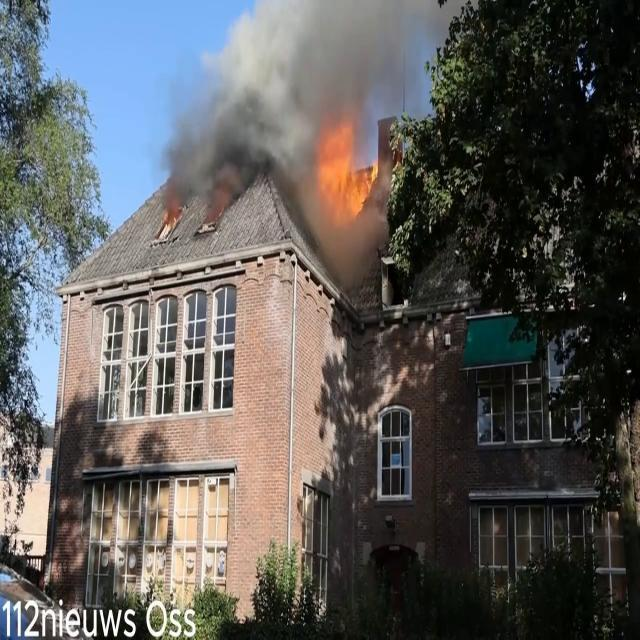Fire: (312, 118, 380, 224)
Smoke: (160, 0, 420, 217)
